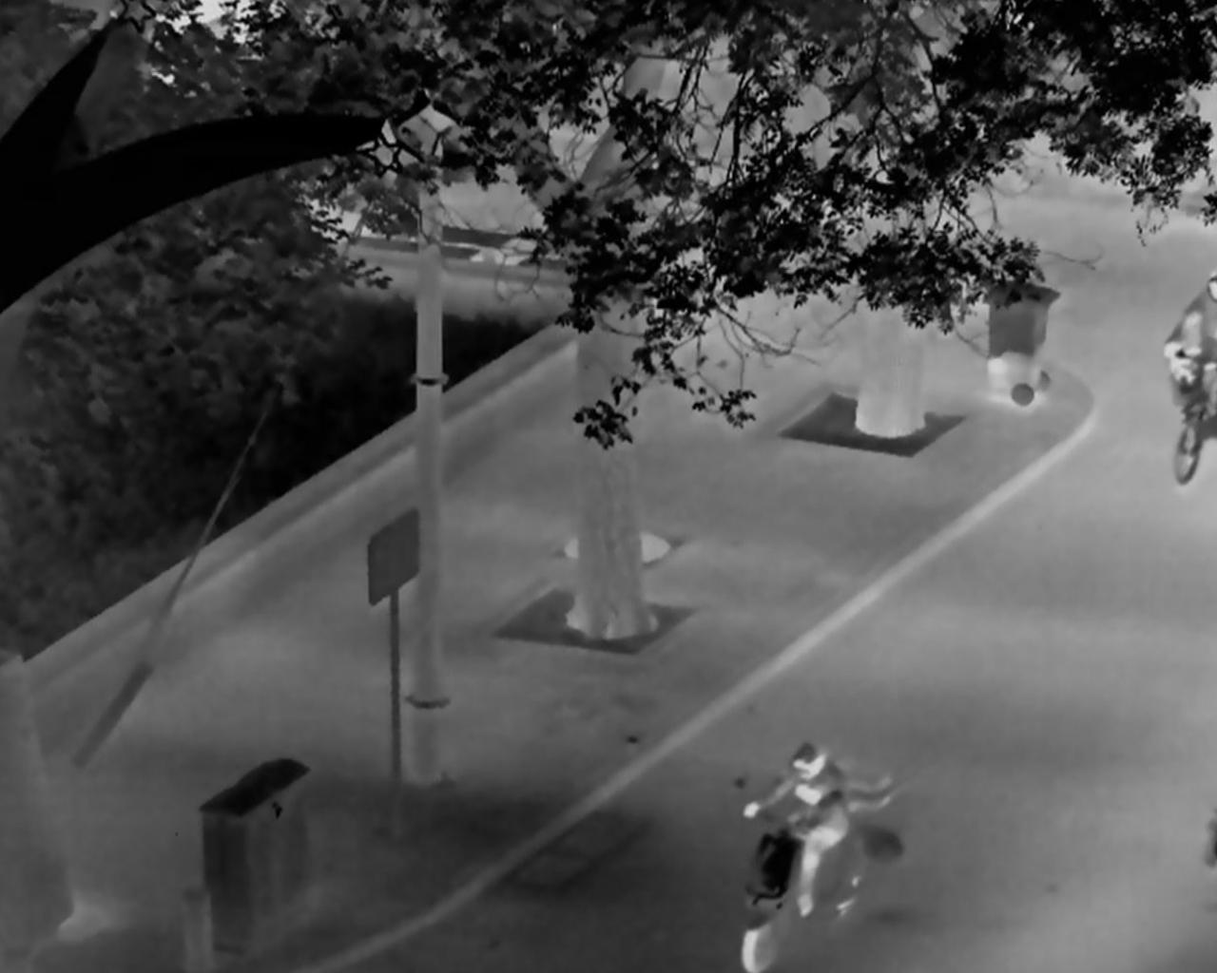person: (744, 742, 850, 919), (1165, 269, 1217, 412)
